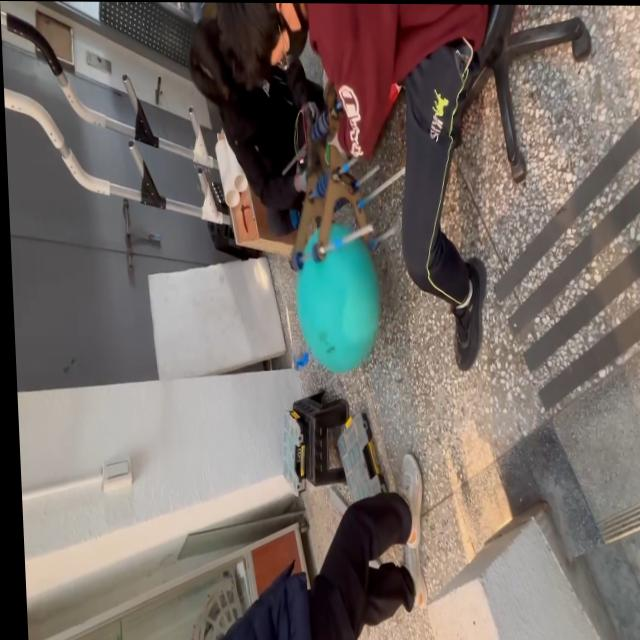ALGAE: (292, 219, 385, 375)
